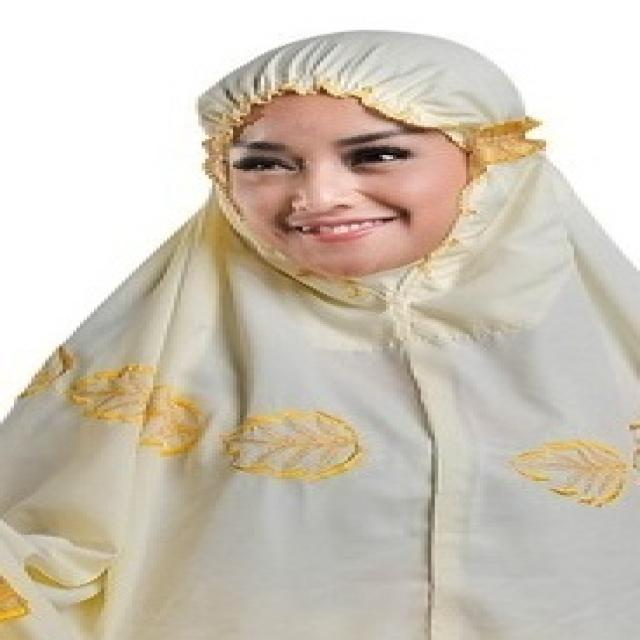head: (203, 37, 549, 284)
